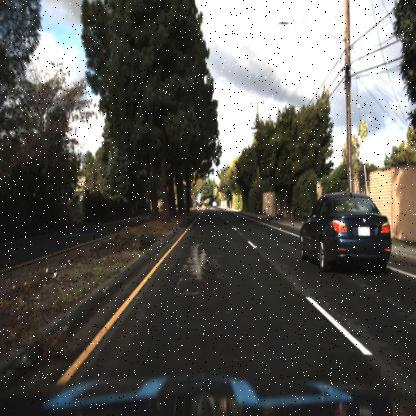car: (300, 186, 393, 283)
